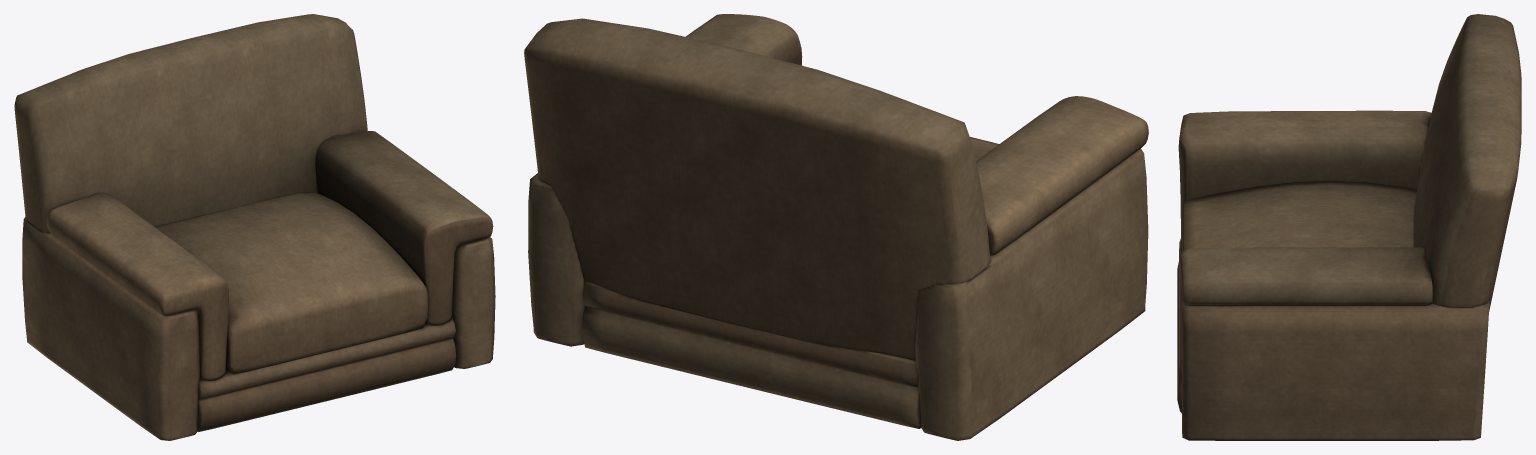
File: Austin_Accent_chair_2.fbx
The picture shows the model from 3 angles, left to right: view 1: azimuth 30°, elevation 25°; view 2: azimuth 150°, elevation 25°; view 3: azimuth 270°, elevation 25°; orthographic projection. The views are drawn at different scales.
Parts seen in each view (by area): view 1: Austin_Accent_hair2; view 2: Austin_Accent_hair2; view 3: Austin_Accent_hair2.
Part boxes in pixels (x1=…): Austin_Accent_hair2: x1=14, y1=14, x2=495, y2=440; Austin_Accent_hair2: x1=524, y1=14, x2=1148, y2=440; Austin_Accent_hair2: x1=1177, y1=14, x2=1521, y2=440.
Size of the model in its own units: 1.41 by 1.01 by 1.16.
